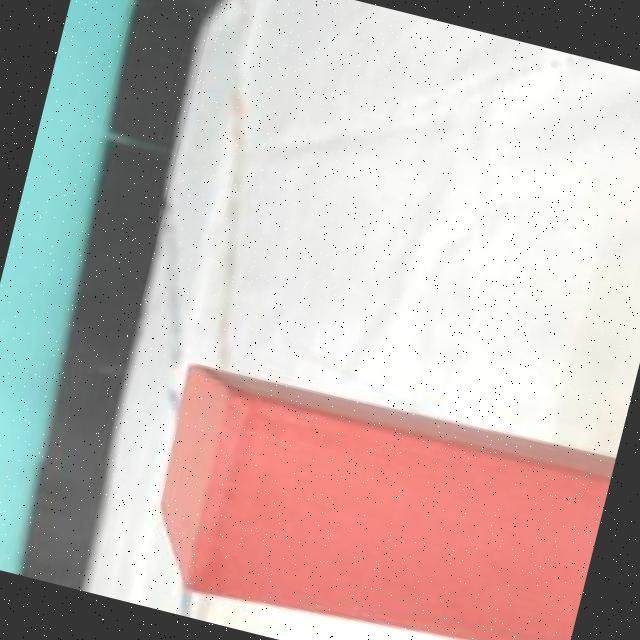redbox: (133, 347, 617, 640)
